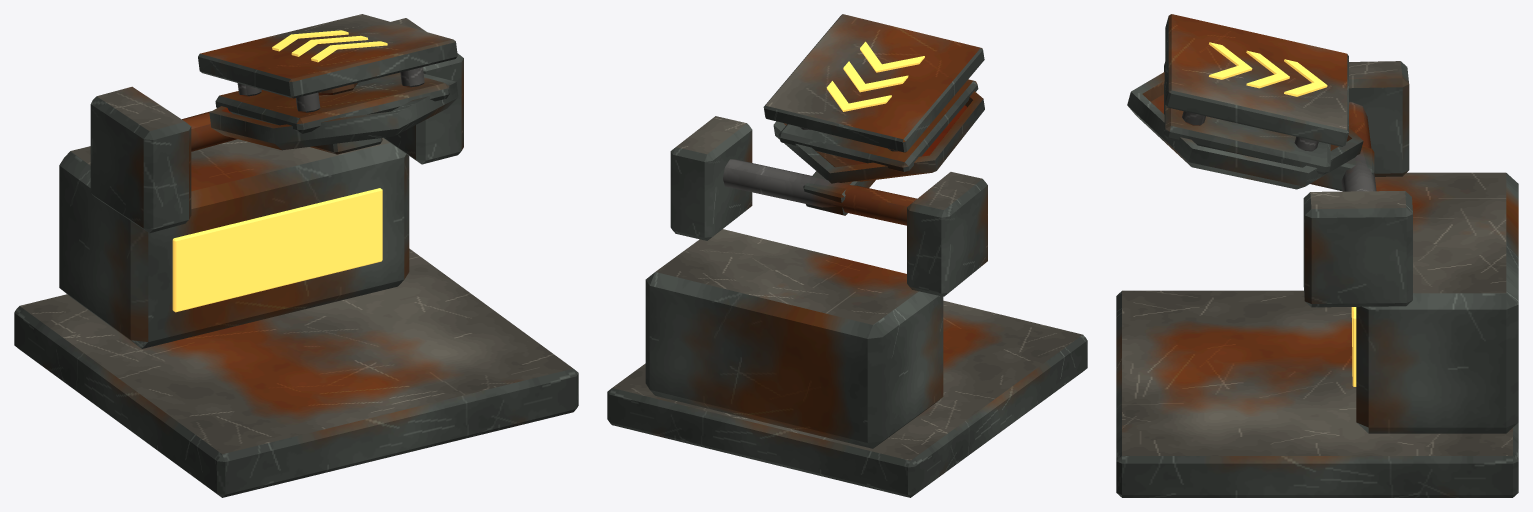
The model's file is R4X_KnockbackTrapDeployer_LOD1.glb.
3 views of the same model, side by side, from view 1: azimuth 30°, elevation 25°; view 2: azimuth 150°, elevation 25°; view 3: azimuth 270°, elevation 25° (orthographic). The views are drawn at different scales.
Parts seen in each view (by area): view 1: R4X_KnockbackTrapDeployer_LOD1; view 2: R4X_KnockbackTrapDeployer_LOD1; view 3: R4X_KnockbackTrapDeployer_LOD1.
Boxes of the visible parts, left/top/right/bottom form: R4X_KnockbackTrapDeployer_LOD1: left=14, top=14, right=578, bottom=497; R4X_KnockbackTrapDeployer_LOD1: left=607, top=14, right=1087, bottom=497; R4X_KnockbackTrapDeployer_LOD1: left=1116, top=14, right=1518, bottom=497.
Bounding box in the file's own units: 0.52 × 0.5176 × 0.52.
Materials: 5 (4 with a texture image).
